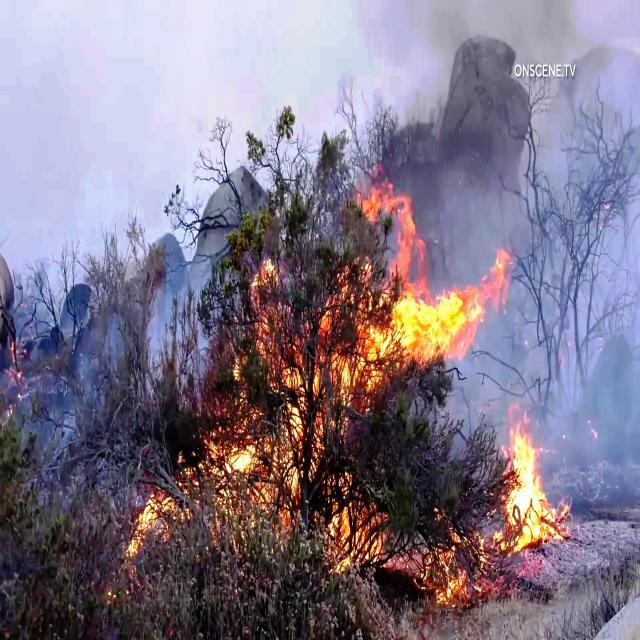Fire: (375, 208, 517, 362), (496, 414, 562, 554)
